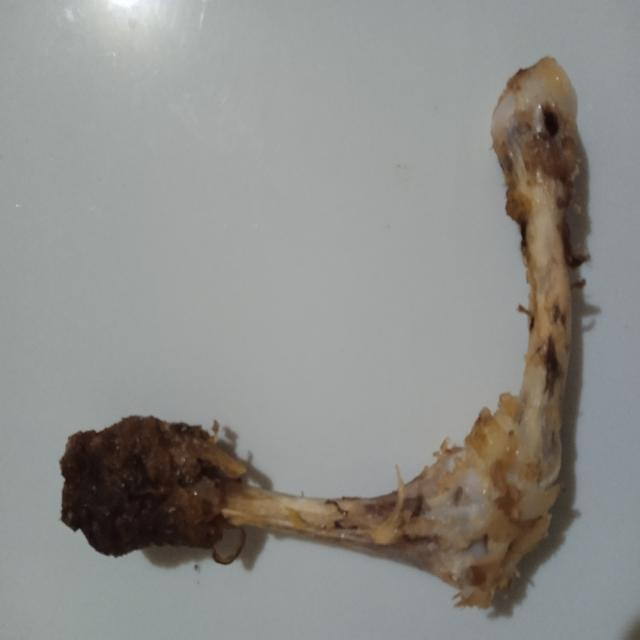bone: (57, 52, 593, 615)
